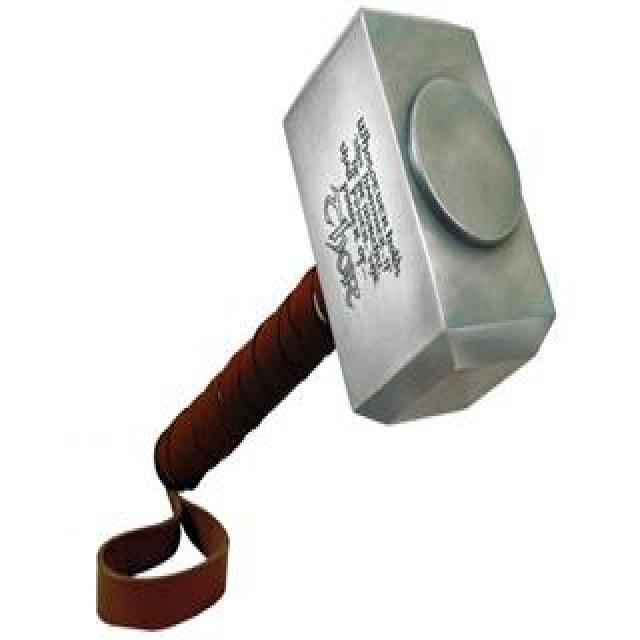hammer: (106, 0, 564, 533)
